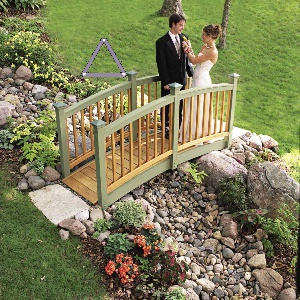triangle: (78, 36, 129, 80)
